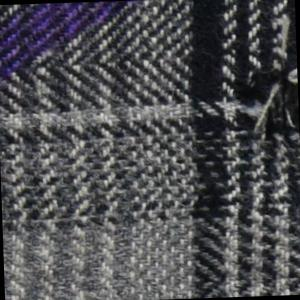Damage: (222, 29, 300, 164)
Stain: (1, 1, 149, 96)
